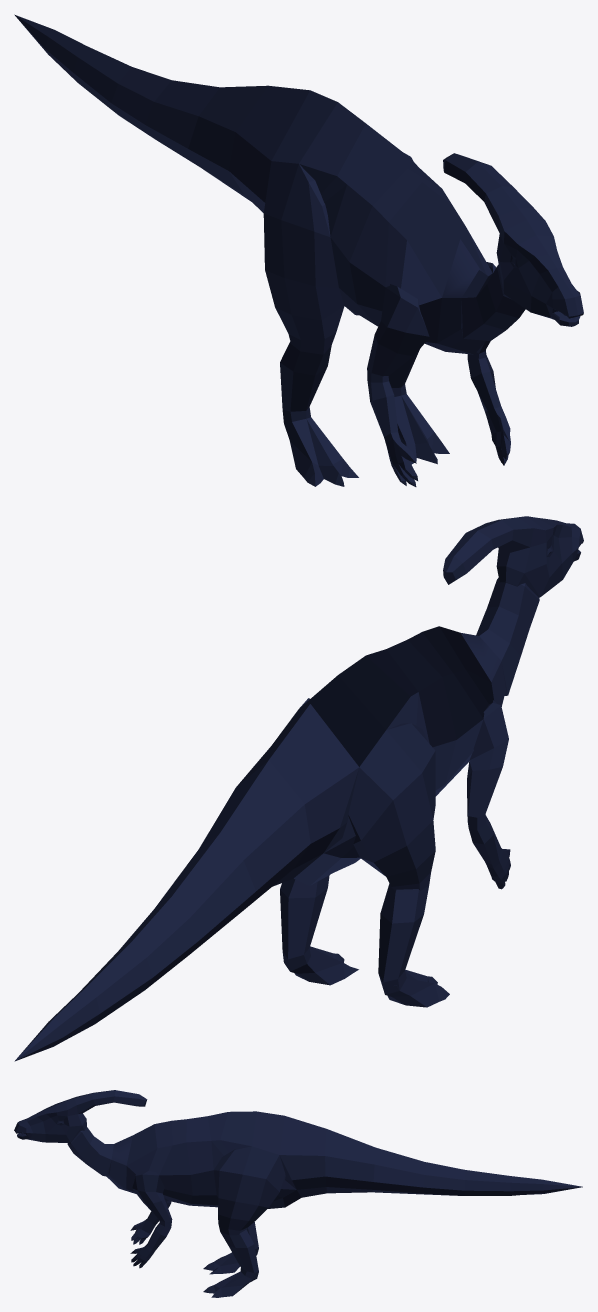
The model's file is Parasaurolophus_Remake.fbx.
The picture shows the model from 3 angles, top to bottom: view 1: azimuth 30°, elevation 25°; view 2: azimuth 150°, elevation 25°; view 3: azimuth 270°, elevation 25°; orthographic projection. The views are drawn at different scales.
Parts seen in each view (by area): view 1: Body, Tail, Back_Right_Up, Head, Tail_End, Front_Right_Up, Neck, Back_Right_End, Back_Right_Middle, Back_Left_End, Front_Right_Middle, Front_Left_Middle (+2 smaller); view 2: Tail, Body, Back_Right_Up, Tail_End, Head, Neck, Back_Right_Middle, Back_Left_Middle, Front_Right_Up, Back_Left_End, Back_Right_End, Front_Right_Middle; view 3: Body, Tail, Back_Left_Up, Tail_End, Head, Neck, Front_Left_Up, Back_Left_Middle, Back_Left_End, Back_Right_End, Front_Left_Middle, Front_Right_End (+1 smaller).
Boxes of the visible parts, x1,y1,x2,y2 form: Body: (271,90,492,354); Tail: (145,80,309,212); Back_Right_Up: (263,161,344,354); Head: (443,153,583,318); Tail_End: (14,14,171,139); Front_Right_Up: (367,284,429,376); Neck: (461,264,525,340); Back_Right_End: (284,417,358,486); Back_Right_Middle: (280,341,331,423); Back_Left_End: (394,394,449,464); Front_Right_Middle: (367,368,399,443); Front_Left_Middle: (467,350,503,418); Tail: (154,704,359,953); Body: (272,626,505,885); Back_Right_Up: (348,723,435,890); Tail_End: (14,896,198,1061); Head: (443,516,583,597); Neck: (476,577,539,695); Back_Right_Middle: (378,883,429,994); Back_Left_Middle: (280,875,329,971); Front_Right_Up: (467,700,508,817); Back_Left_End: (283,946,358,985); Back_Right_End: (385,969,449,1007); Front_Right_Middle: (467,813,503,868); Body: (107,1111,301,1208); Tail: (279,1116,424,1197); Back_Left_Up: (213,1146,285,1235); Tail_End: (423,1162,582,1195); Head: (14,1090,147,1142); Neck: (67,1127,113,1176); Front_Left_Up: (132,1171,172,1221); Back_Left_Middle: (220,1229,258,1279); Back_Left_End: (203,1271,256,1297); Back_Right_End: (203,1252,239,1274); Front_Left_Middle: (145,1221,171,1253); Front_Right_End: (130,1220,153,1244).
Size of the model in its own units: 129 by 312 by 845.
